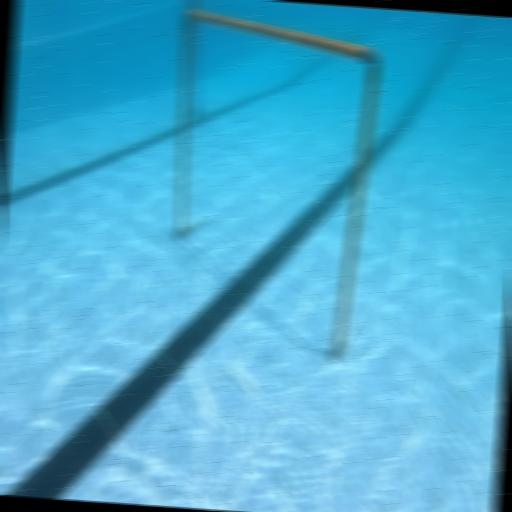gate: (158, 6, 385, 364)
